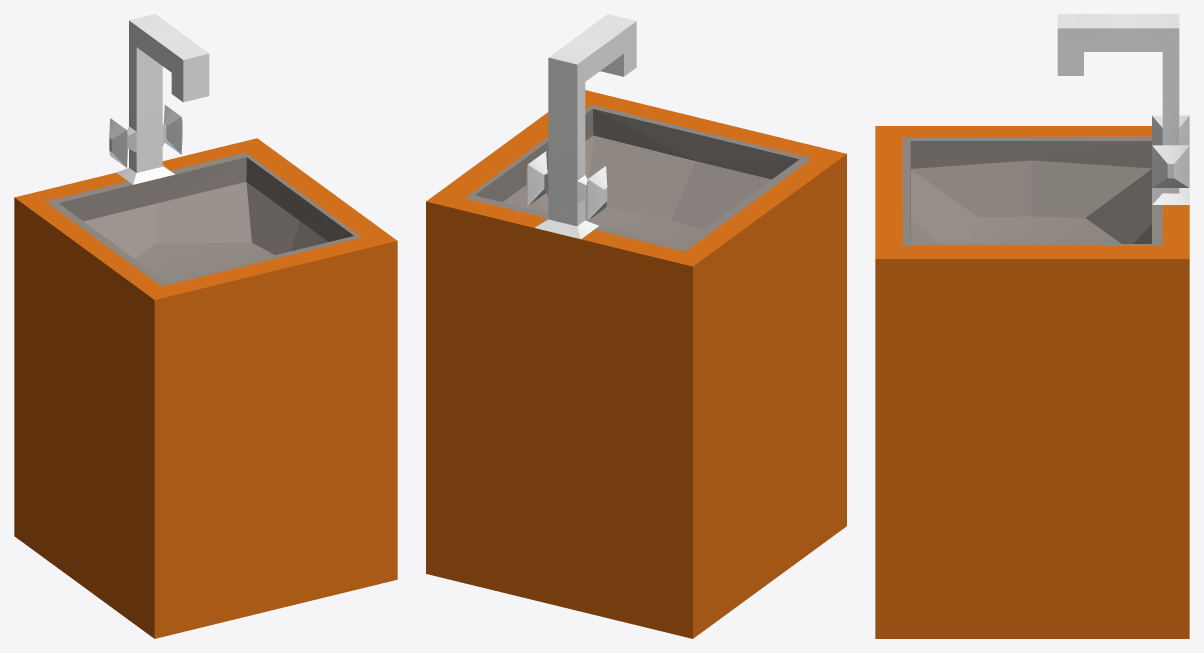
The model's file is grifo.FBX.
3 renders of one model, left to right at view 1: azimuth 30°, elevation 25°; view 2: azimuth 150°, elevation 25°; view 3: azimuth 270°, elevation 25°, orthographic. The views are drawn at different scales.
Parts seen in each view (by area): view 1: Box002; view 2: Box002; view 3: Box002.
Part boxes in pixels (left/top/right/bottom): Box002: left=14, top=14, right=397, bottom=638; Box002: left=426, top=14, right=846, bottom=638; Box002: left=875, top=14, right=1189, bottom=638.
Bounding box in the file's own units: 60 × 116 × 60.
